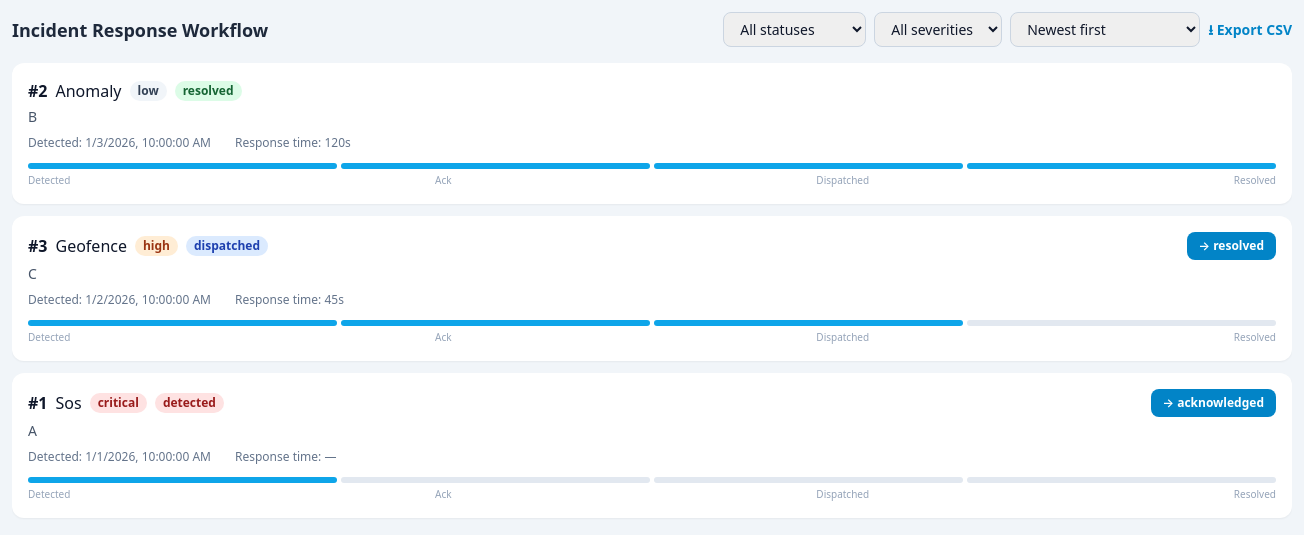
Test case: Incidents severity filter and sort › shows an empty-state message when the filter matches nothing
This screenshot has width=1304, height=535.
Expected: the text "A" is shown, x1=28 y1=421 x2=37 y2=440
Select "Critical" in the 2nd dropdown at (938, 30), box x1=874 y1=12 x2=1002 y2=47
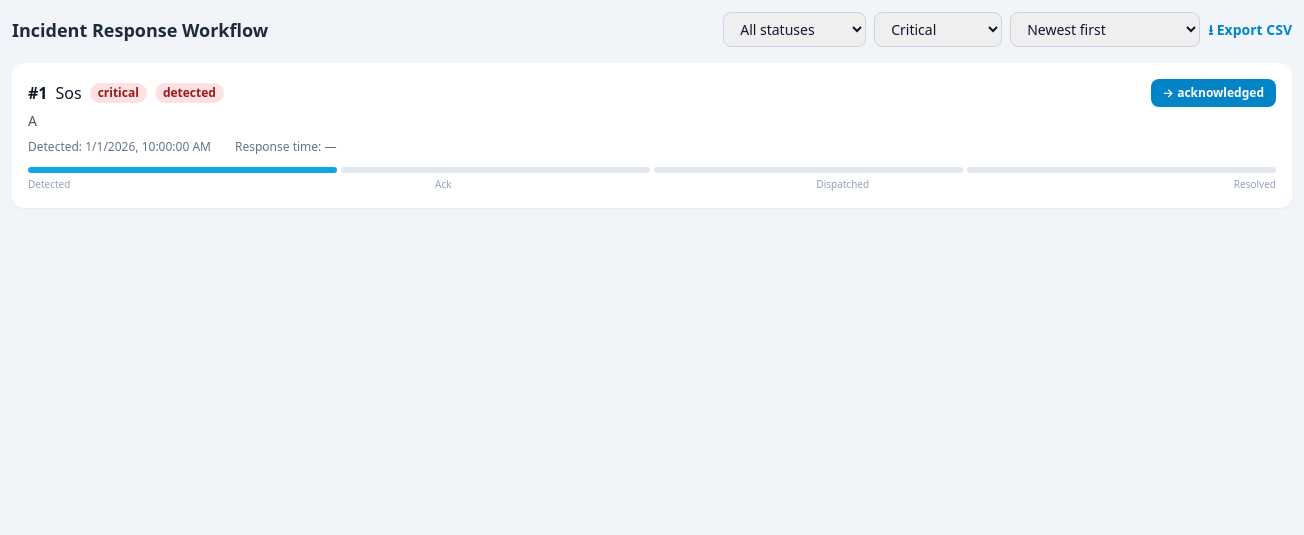
Select "Low" in the 2nd dropdown at (938, 30), box x1=874 y1=12 x2=1002 y2=47
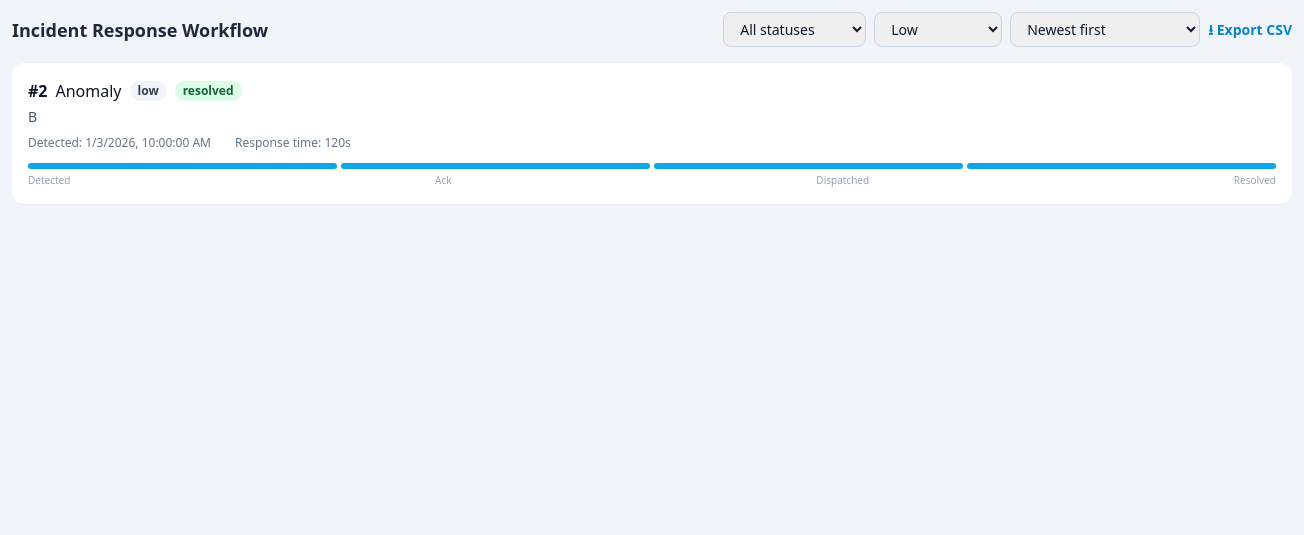
Select "Medium" in the 2nd dropdown at (938, 30), box x1=874 y1=12 x2=1002 y2=47
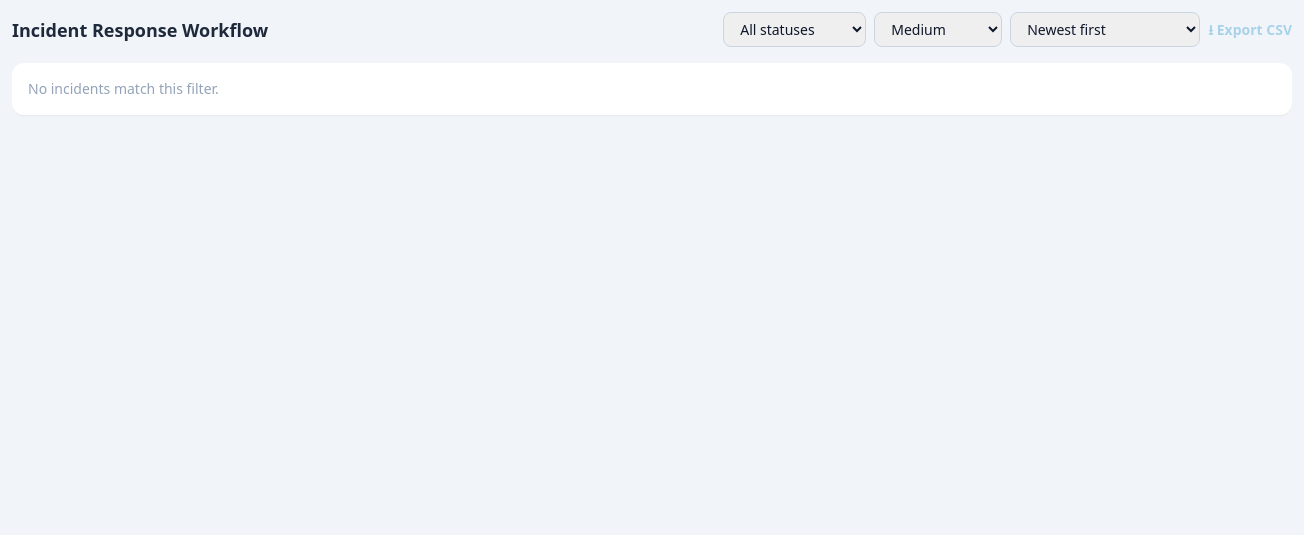
Now the text "No incidents match this filter." is shown, box x1=28 y1=79 x2=219 y2=98
